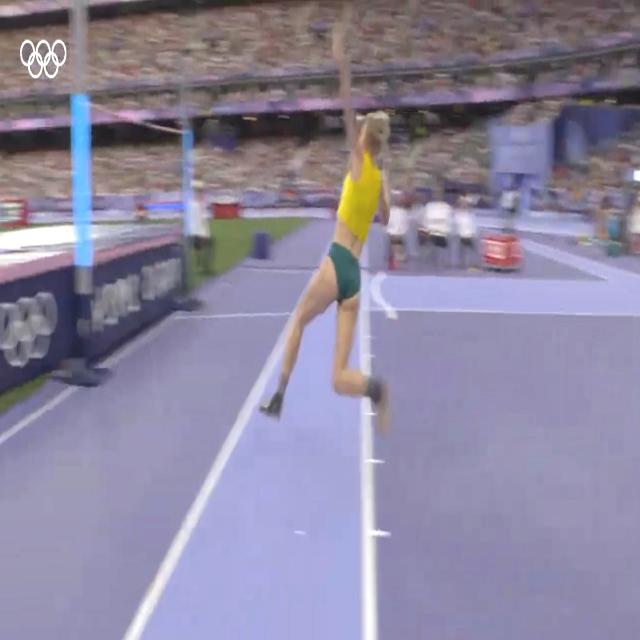run: (259, 66, 401, 427)
